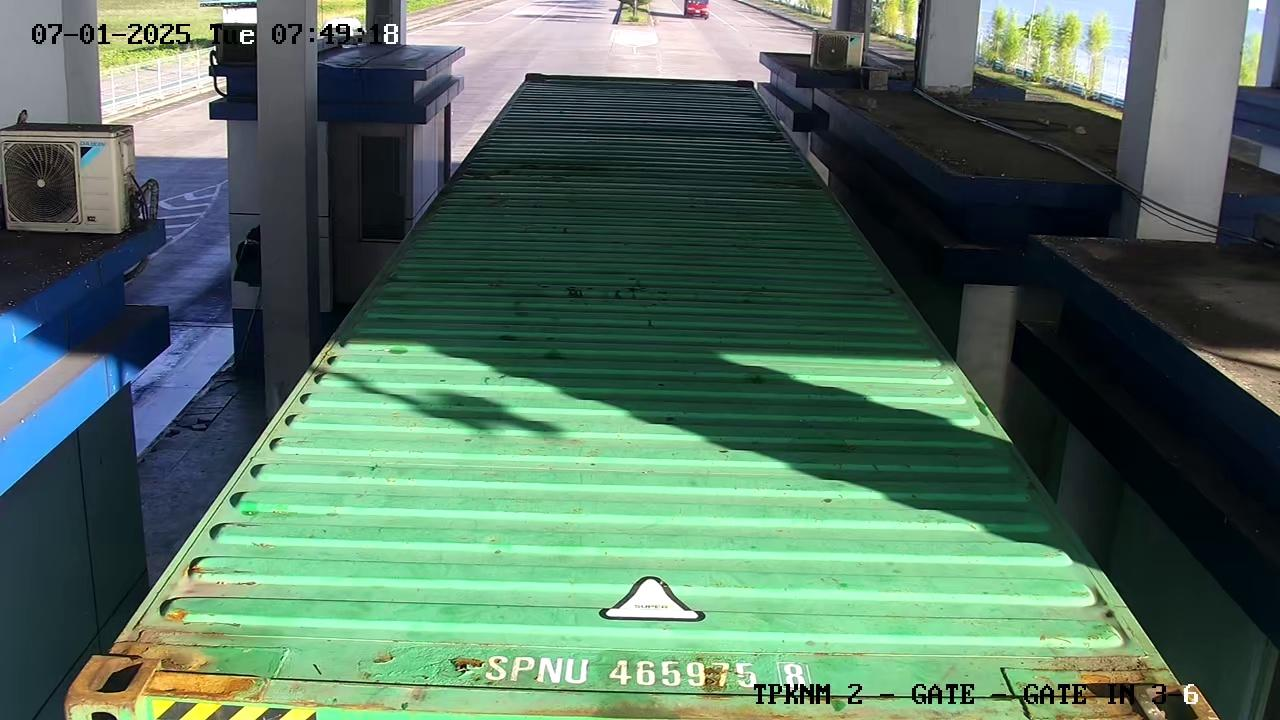Container_ID: (467, 644, 825, 698)
